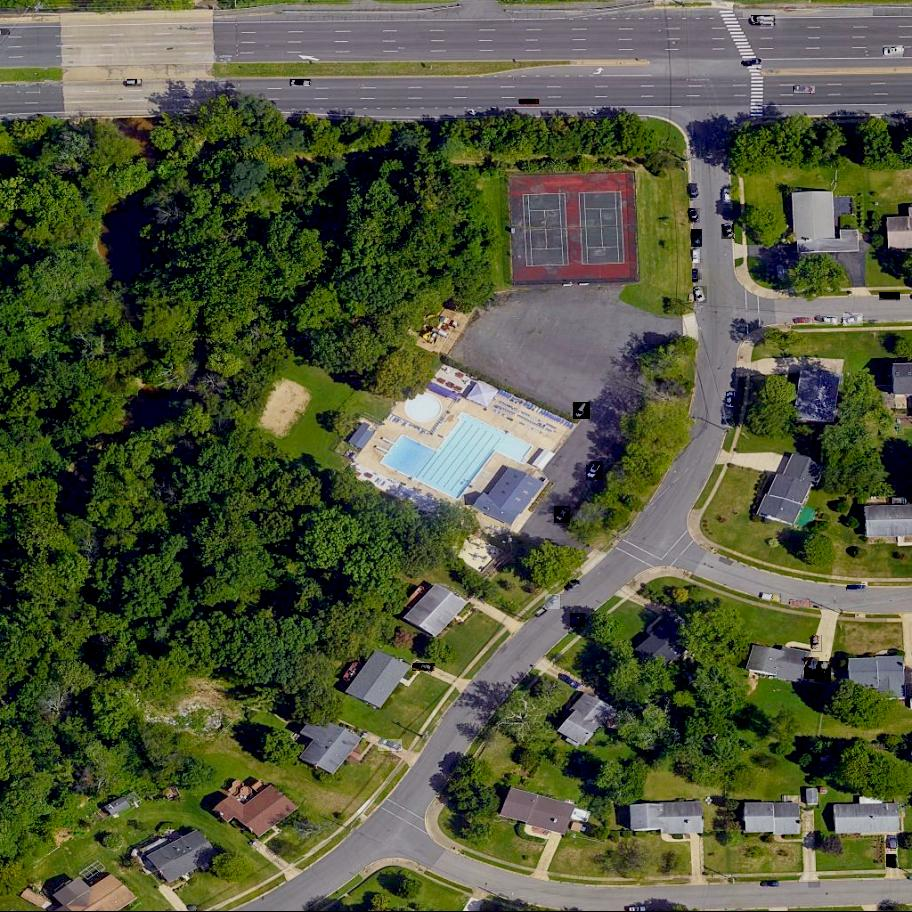large-vehicle: (586, 460, 603, 483), (815, 317, 839, 326)
small-vehicle: (559, 672, 584, 693), (804, 658, 822, 681), (814, 662, 832, 684), (378, 739, 402, 754), (574, 401, 591, 420), (843, 313, 864, 328), (751, 15, 776, 27), (555, 506, 571, 524), (564, 579, 582, 595), (546, 593, 562, 610), (883, 46, 905, 58), (692, 287, 707, 304), (570, 614, 587, 629), (688, 183, 701, 201), (412, 663, 434, 673), (688, 208, 701, 224), (722, 224, 735, 240), (761, 593, 781, 603), (691, 229, 702, 247), (741, 58, 763, 67), (879, 293, 900, 301), (887, 836, 898, 851), (812, 635, 822, 651), (886, 855, 898, 868), (794, 86, 815, 93), (723, 189, 732, 205), (793, 318, 812, 325), (790, 601, 809, 608), (291, 79, 310, 85), (519, 100, 539, 105), (692, 269, 699, 283), (693, 249, 700, 263), (847, 586, 866, 591), (761, 881, 779, 886), (727, 392, 733, 406), (128, 80, 142, 86)
